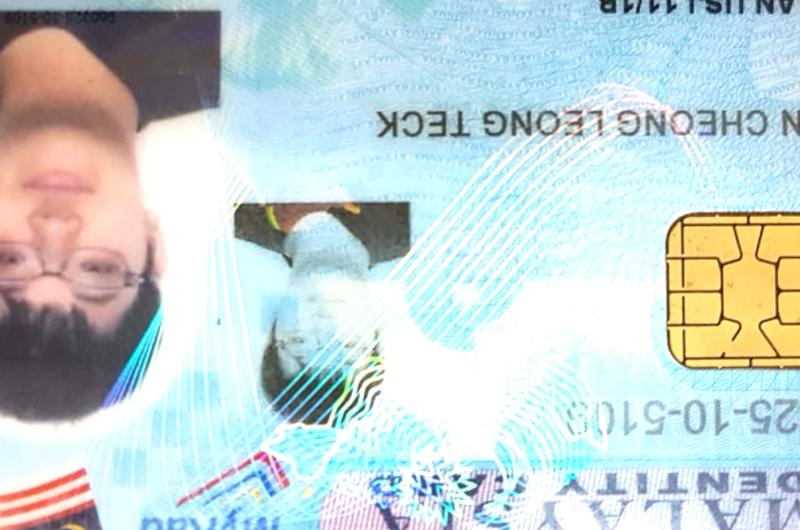hologram: (421, 141, 603, 343)
